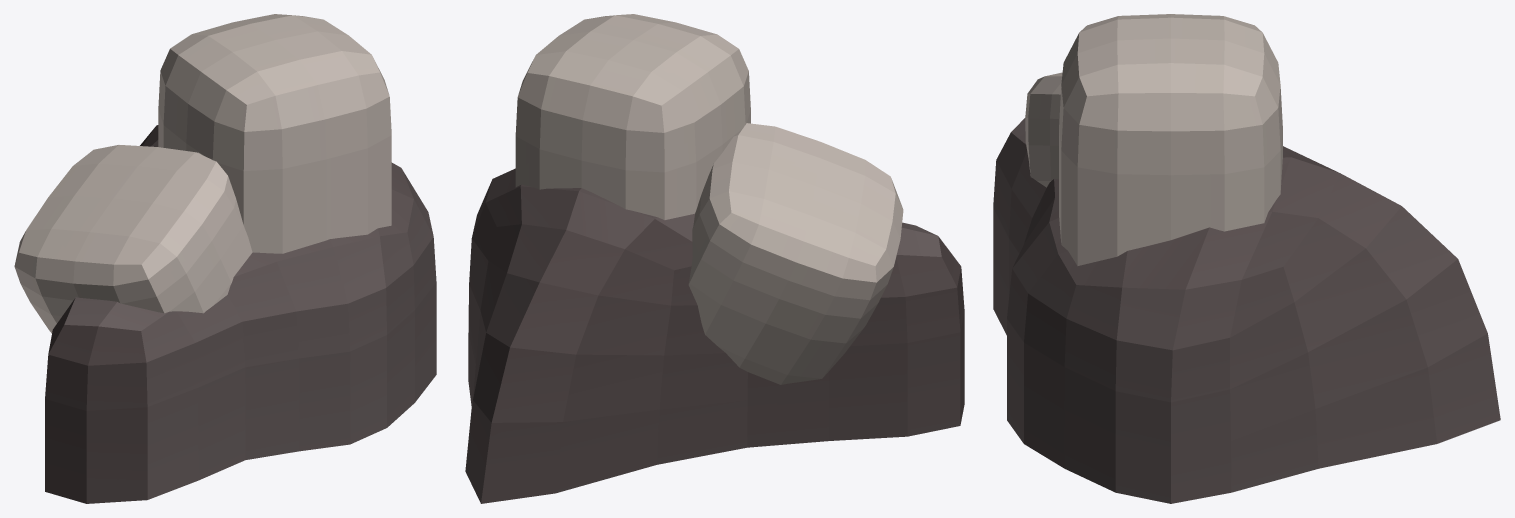
Rendered from Moonchalk_Var1.glb.
3 views of the same model, side by side, from view 1: azimuth 30°, elevation 25°; view 2: azimuth 150°, elevation 25°; view 3: azimuth 270°, elevation 25° (orthographic). The views are drawn at different scales.
Visible parts, largest first — view 1: Rock, Moonchalk; view 2: Rock, Moonchalk; view 3: Rock, Moonchalk.
Part boxes in pixels (bbox=[...]): Rock: bbox=[45, 125, 436, 503]; Moonchalk: bbox=[14, 14, 391, 333]; Rock: bbox=[465, 168, 964, 503]; Moonchalk: bbox=[515, 14, 903, 384]; Rock: bbox=[993, 118, 1500, 503]; Moonchalk: bbox=[1025, 14, 1282, 265].
Size of the model in its own units: 4.89 by 3.76 by 4.53.
Materials: 1 (1 with a texture image).
